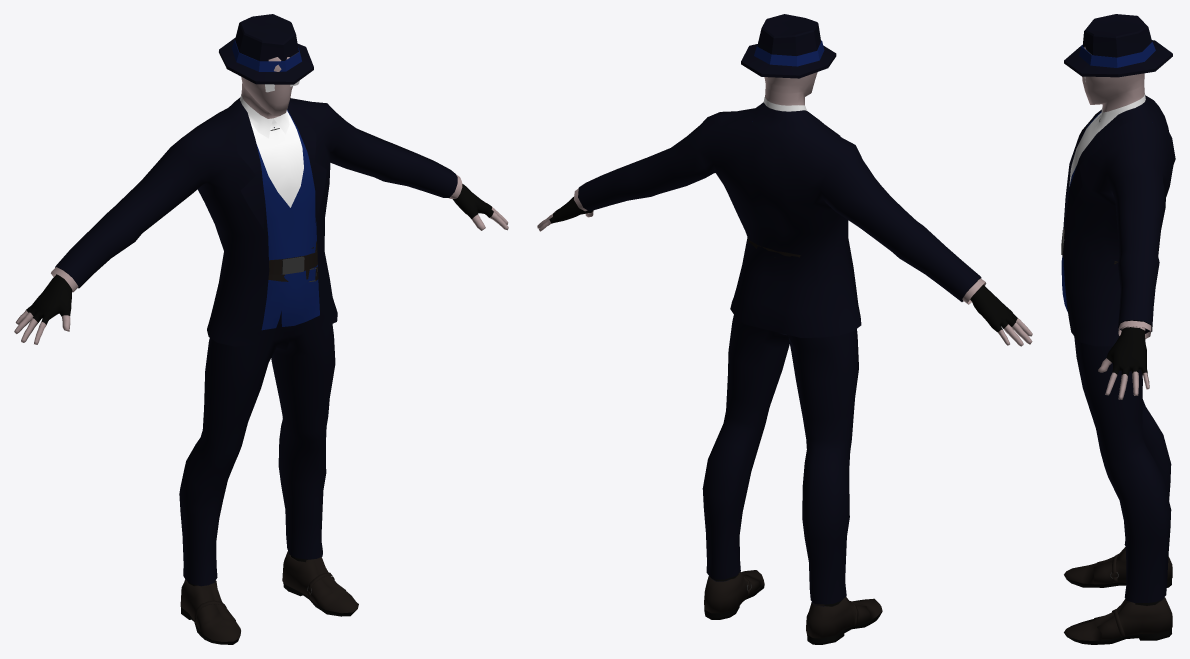
Rendered from character_beta.FBX.
The picture shows the model from 3 angles, left to right: view 1: azimuth 30°, elevation 25°; view 2: azimuth 150°, elevation 25°; view 3: azimuth 270°, elevation 25°; orthographic projection.
Visible parts, largest first — view 1: Object036, Object043, Object040, Object038, Cylinder027, Object042, Object039, Object037; view 2: Object036, Object043, Object040, Cylinder027; view 3: Object036, Object043, Object040, Cylinder027, Object042, Object039, Object037, Object038.
Part boxes in pixels (<box>): Object036: <box>55,98,457,346</box>; Object043: <box>179,311,335,586</box>; Object040: <box>14,57,508,644</box>; Object038: <box>256,109,319,330</box>; Cylinder027: <box>219,14,313,84</box>; Object042: <box>230,97,326,228</box>; Object039: <box>250,112,303,207</box>; Object037: <box>240,94,289,138</box>; Object036: <box>578,102,981,337</box>; Object043: <box>702,315,858,606</box>; Object040: <box>537,72,1032,644</box>; Cylinder027: <box>741,14,836,78</box>; Object036: <box>1063,95,1175,346</box>; Object043: <box>1074,337,1171,602</box>; Object040: <box>1064,47,1172,644</box>; Cylinder027: <box>1064,14,1172,77</box>; Object042: <box>1067,96,1149,214</box>; Object039: <box>1069,113,1103,186</box>; Object037: <box>1095,93,1145,129</box>; Object038: <box>1061,98,1145,311</box>.
Size of the model in its own units: 144 by 166 by 29.36.
